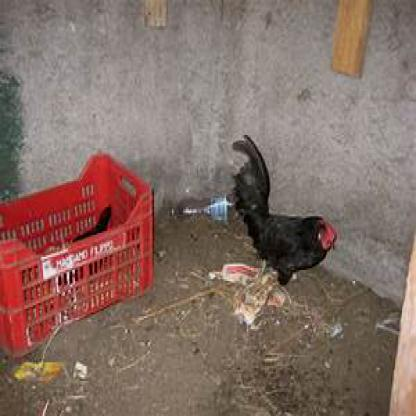chicken: (234, 137, 337, 288)
